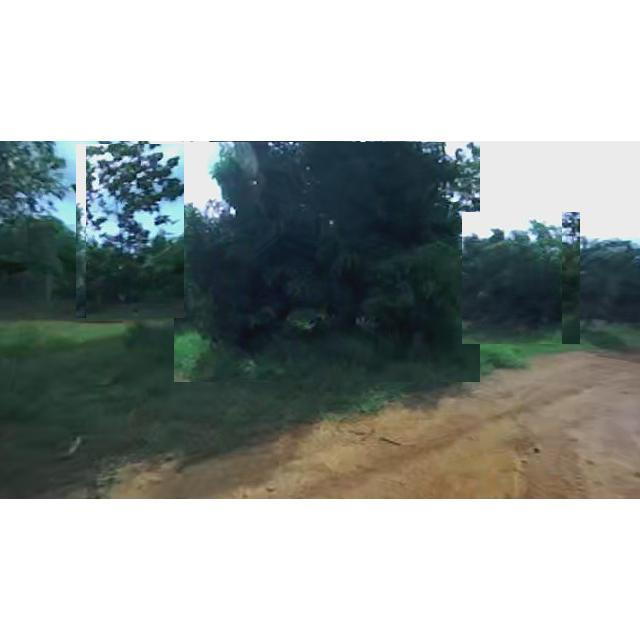direk: (174, 142, 480, 382), (76, 144, 184, 318), (462, 212, 580, 344)
